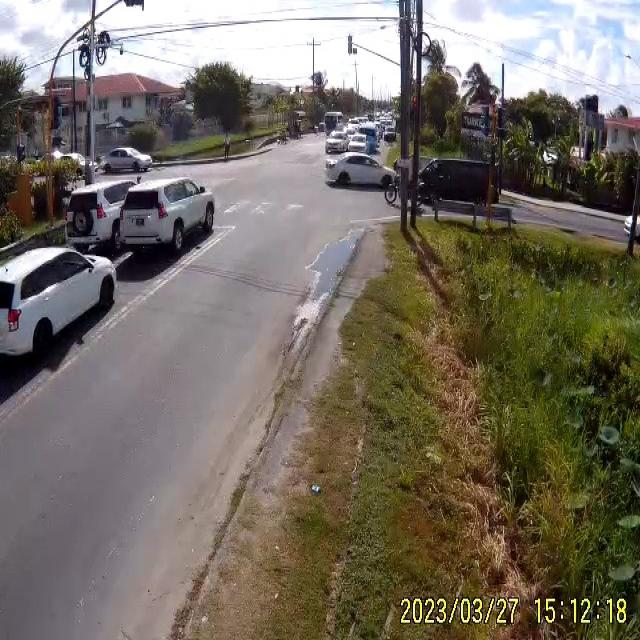car: (0, 242, 120, 374), (120, 175, 215, 256), (395, 156, 502, 215), (66, 179, 135, 255), (325, 154, 397, 191), (102, 148, 153, 173), (326, 132, 350, 153), (346, 134, 367, 152)
